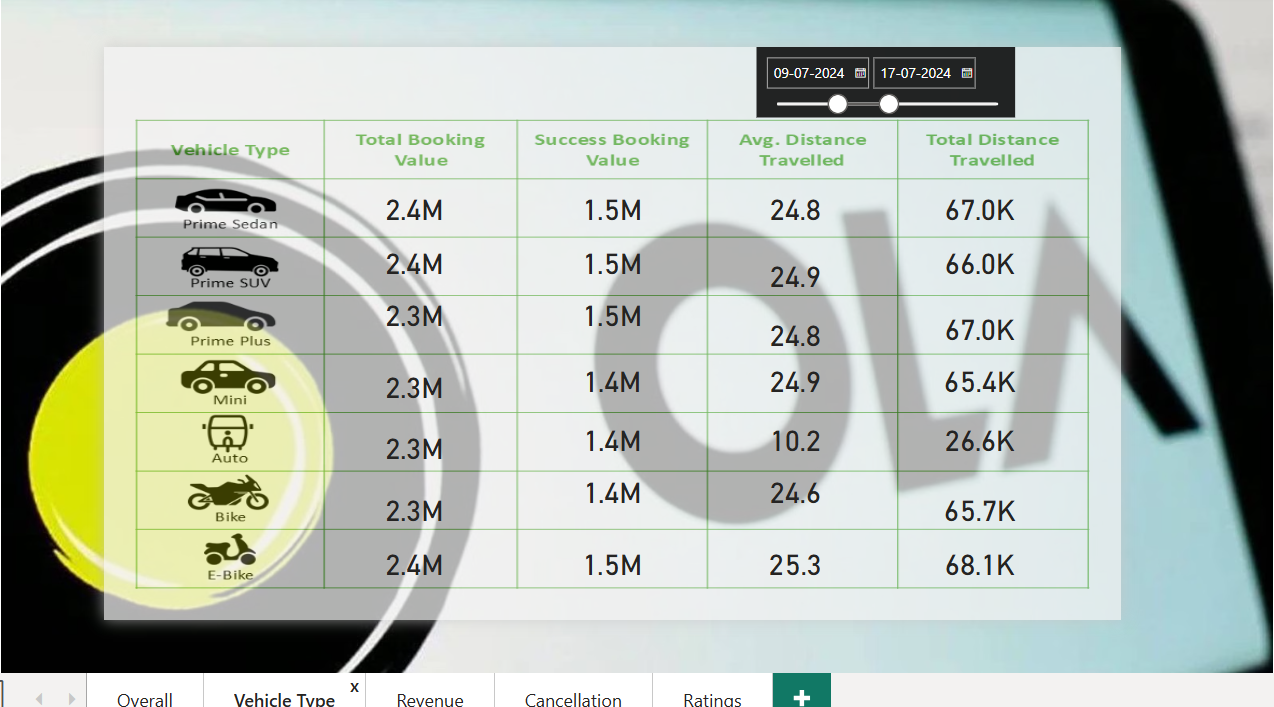

What the dashboard file says about the page in this screenshot:
{"tool":"powerbi","page":{"name":"Vehicle Type","canvas":[1280,720],"ordinal":1},"visuals":[{"type":"card","fields":{"Values":["Sum(July.Booking_Value)"]},"box":[316.7,168.8,145.8,66.7],"z":0},{"type":"card","fields":{"Values":["Sum(July.Booking_Value)"]},"box":[316.7,235.4,145.8,66.7],"z":1},{"type":"card","fields":{"Values":["Sum(July.Booking_Value)"]},"box":[316.7,302.1,145.8,66.7],"z":2},{"type":"card","fields":{"Values":["Sum(July.Booking_Value)"]},"box":[316.7,391.7,145.8,66.7],"z":3},{"type":"card","fields":{"Values":["Sum(July.Booking_Value)"]},"box":[316.7,425,145.8,156.2],"z":4},{"type":"card","fields":{"Values":["Sum(July.Booking_Value)"]},"box":[316.7,547.9,145.8,66.7],"z":5},{"type":"card","fields":{"Values":["Sum(July.Booking_Value)"]},"box":[316.7,614.6,145.8,66.7],"z":6},{"type":"card","fields":{"Values":["Sum(July.Booking_Value)"]},"box":[566.7,168.8,145.8,66.7],"z":7},{"type":"card","fields":{"Values":["Sum(July.Booking_Value)"]},"box":[566.7,235.4,145.8,66.7],"z":8},{"type":"card","fields":{"Values":["Sum(July.Booking_Value)"]},"box":[566.7,302.1,145.8,66.7],"z":9},{"type":"card","fields":{"Values":["Sum(July.Booking_Value)"]},"box":[566.7,360.4,145.8,114.6],"z":10},{"type":"card","fields":{"Values":["Sum(July.Booking_Value)"]},"box":[566.7,614.6,145.8,66.7],"z":11},{"type":"card","fields":{"Values":["Sum(July.Booking_Value)"]},"box":[566.7,525,145.8,66.7],"z":12},{"type":"card","fields":{"Values":["Sum(July.Booking_Value)"]},"box":[566.7,458.3,145.8,66.7],"z":13},{"type":"card","fields":{"Values":["Avg(July.Ride_Distance)"]},"box":[795.8,168.8,145.8,66.7],"z":14},{"type":"card","fields":{"Values":["Avg(July.Ride_Distance)"]},"box":[795.8,252.1,145.8,66.7],"z":15},{"type":"card","fields":{"Values":["Avg(July.Ride_Distance)"]},"box":[795.8,327.1,145.8,66.7],"z":16},{"type":"card","fields":{"Values":["Avg(July.Ride_Distance)"]},"box":[795.8,385.4,145.8,66.7],"z":17},{"type":"card","fields":{"Values":["Avg(July.Ride_Distance)"]},"box":[795.8,458.3,145.8,66.7],"z":18},{"type":"card","fields":{"Values":["Avg(July.Ride_Distance)"]},"box":[795.8,525,145.8,66.7],"z":19},{"type":"card","fields":{"Values":["Avg(July.Ride_Distance)"]},"box":[795.8,614.6,145.8,66.7],"z":20},{"type":"card","fields":{"Values":["Sum(July.Ride_Distance)"]},"box":[1029.2,168.8,145.8,66.7],"z":21},{"type":"card","fields":{"Values":["Sum(July.Ride_Distance)"]},"box":[1029.2,235.4,145.8,66.7],"z":22},{"type":"card","fields":{"Values":["Sum(July.Ride_Distance)"]},"box":[1029.2,318.8,145.8,66.7],"z":23},{"type":"card","fields":{"Values":["Sum(July.Ride_Distance)"]},"box":[1029.2,385.4,145.8,66.7],"z":24},{"type":"card","fields":{"Values":["Sum(July.Ride_Distance)"]},"box":[1029.2,458.3,145.8,66.7],"z":25},{"type":"card","fields":{"Values":["Sum(July.Ride_Distance)"]},"box":[1029.2,547.9,145.8,66.7],"z":26},{"type":"card","fields":{"Values":["Sum(July.Ride_Distance)"]},"box":[1029.2,614.6,145.8,66.7],"z":27},{"type":"slicer","title":"Date","fields":{"Values":["July.Date"]},"box":[821.2,0,325,88.5],"z":28}]}

Visuals, with their boxes on the page's 1280x720 design canvas (x1, y1, x2, y2). These are canvas units, not pixel positions in the 1274x707 screenshot, which may show the page scaled, cropped or inside an application window:
card - Sum(July.Booking_Value): x1=317, y1=169, x2=462, y2=236
card - Sum(July.Booking_Value): x1=317, y1=235, x2=462, y2=302
card - Sum(July.Booking_Value): x1=317, y1=302, x2=462, y2=369
card - Sum(July.Booking_Value): x1=317, y1=392, x2=462, y2=458
card - Sum(July.Booking_Value): x1=317, y1=425, x2=462, y2=581
card - Sum(July.Booking_Value): x1=317, y1=548, x2=462, y2=615
card - Sum(July.Booking_Value): x1=317, y1=615, x2=462, y2=681
card - Sum(July.Booking_Value): x1=567, y1=169, x2=712, y2=236
card - Sum(July.Booking_Value): x1=567, y1=235, x2=712, y2=302
card - Sum(July.Booking_Value): x1=567, y1=302, x2=712, y2=369
card - Sum(July.Booking_Value): x1=567, y1=360, x2=712, y2=475
card - Sum(July.Booking_Value): x1=567, y1=615, x2=712, y2=681
card - Sum(July.Booking_Value): x1=567, y1=525, x2=712, y2=592
card - Sum(July.Booking_Value): x1=567, y1=458, x2=712, y2=525
card - Avg(July.Ride_Distance): x1=796, y1=169, x2=942, y2=236
card - Avg(July.Ride_Distance): x1=796, y1=252, x2=942, y2=319
card - Avg(July.Ride_Distance): x1=796, y1=327, x2=942, y2=394
card - Avg(July.Ride_Distance): x1=796, y1=385, x2=942, y2=452
card - Avg(July.Ride_Distance): x1=796, y1=458, x2=942, y2=525
card - Avg(July.Ride_Distance): x1=796, y1=525, x2=942, y2=592
card - Avg(July.Ride_Distance): x1=796, y1=615, x2=942, y2=681
card - Sum(July.Ride_Distance): x1=1029, y1=169, x2=1175, y2=236
card - Sum(July.Ride_Distance): x1=1029, y1=235, x2=1175, y2=302
card - Sum(July.Ride_Distance): x1=1029, y1=319, x2=1175, y2=386
card - Sum(July.Ride_Distance): x1=1029, y1=385, x2=1175, y2=452
card - Sum(July.Ride_Distance): x1=1029, y1=458, x2=1175, y2=525
card - Sum(July.Ride_Distance): x1=1029, y1=548, x2=1175, y2=615
card - Sum(July.Ride_Distance): x1=1029, y1=615, x2=1175, y2=681
"Date" slicer: x1=821, y1=0, x2=1146, y2=88
